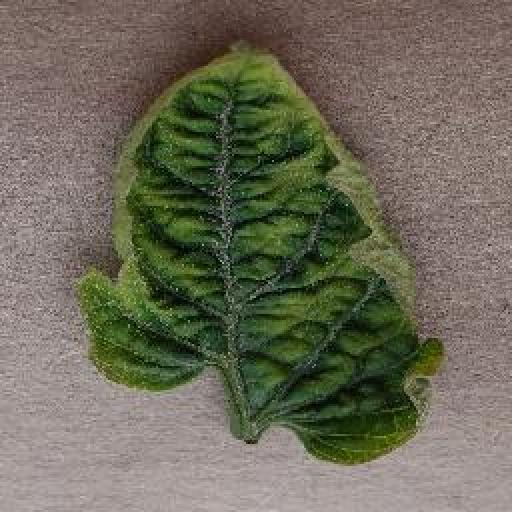Yellow Leaf Curl Virus: (77, 43, 448, 465)
